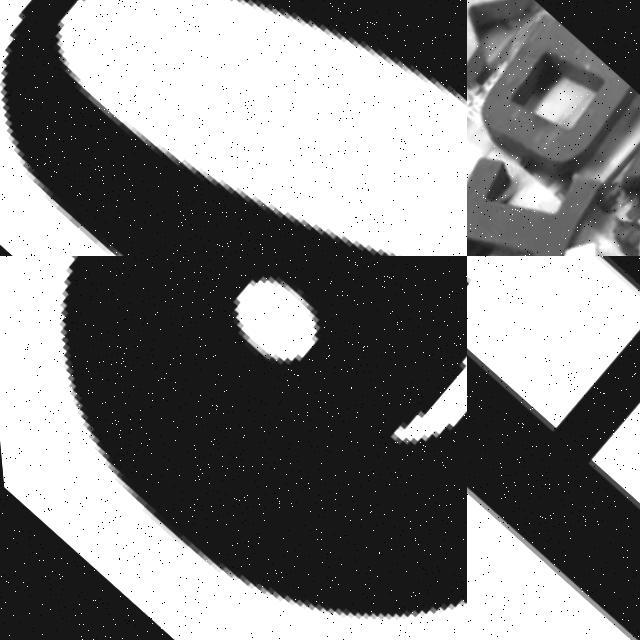0: (0, 0, 467, 256)
9: (0, 256, 467, 640)
D: (467, 0, 640, 181)
H: (467, 315, 640, 640), (467, 160, 640, 256)
I: (467, 116, 608, 256)
X: (467, 0, 537, 93)
